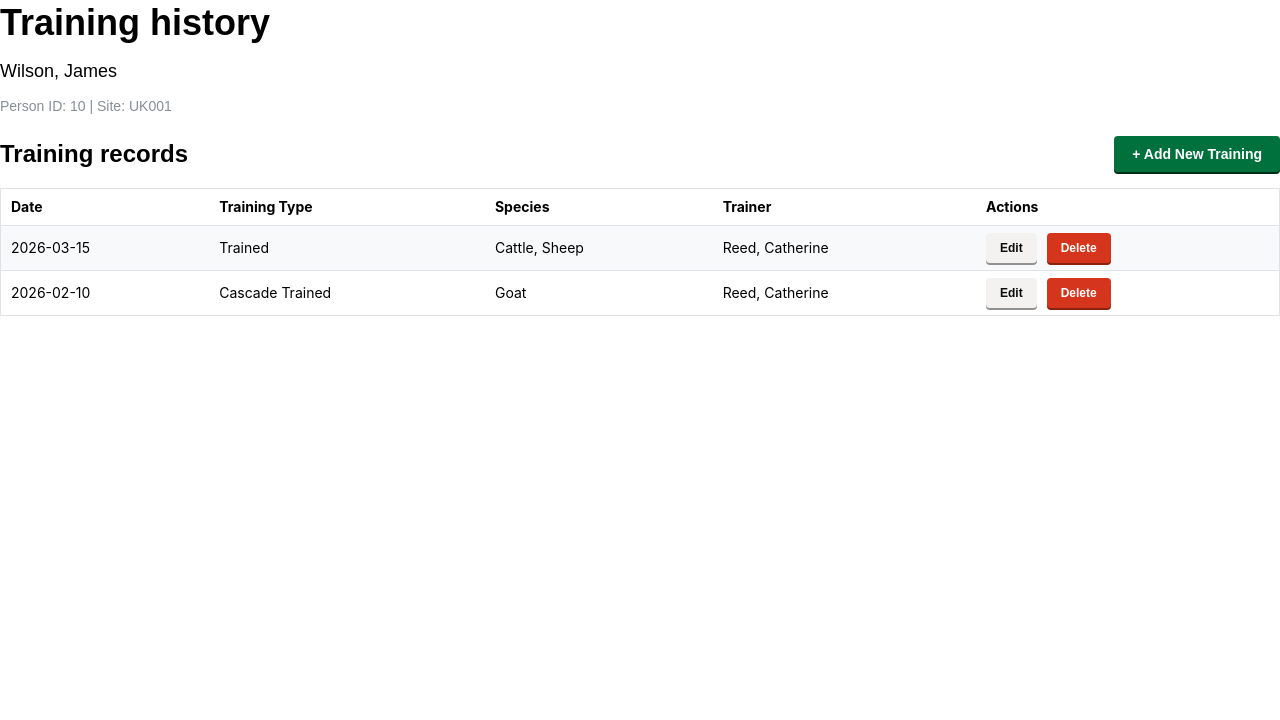
TrainingHistoryPage › opens delete confirmation modal when delete button is clicked
Click the button with test id "delete-training-1".
click(1079, 248)  # box [1047,233,1111,263]
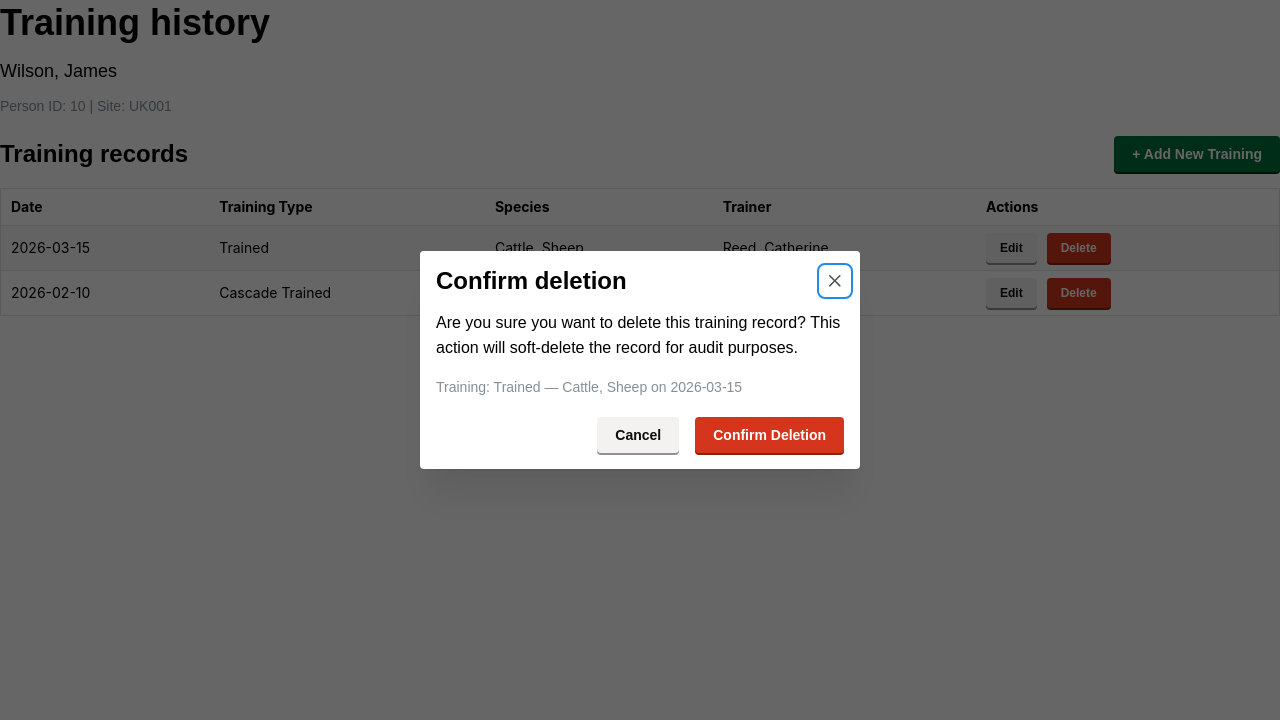
expect the heading "Confirm deletion" is shown: met, box [436,269,627,293]
expect the button with test id "confirm-delete-training-button" is shown: met, box [695,417,844,453]
